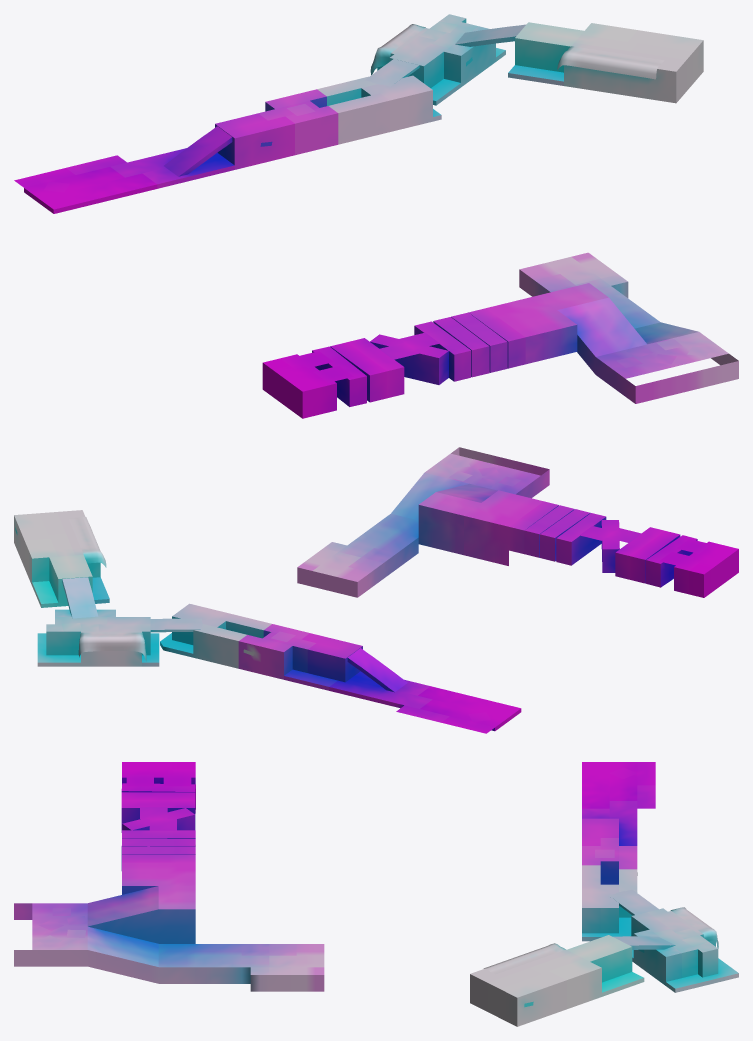
Rendered from D3_MapBaked.fbx.
3 views of the same model, one above another, from view 1: azimuth 30°, elevation 25°; view 2: azimuth 150°, elevation 25°; view 3: azimuth 270°, elevation 25° (orthographic). The views are drawn at different scales.
Visible parts, largest first — view 1: object_merge10; view 2: object_merge10; view 3: object_merge10.
Part boxes in pixels (x1,y1,x2,y2): object_merge10: (14,14,738,418); object_merge10: (14,447,738,733); object_merge10: (14,762,738,1026).
Size of the model in its own units: 7133 by 1131 by 7877.
